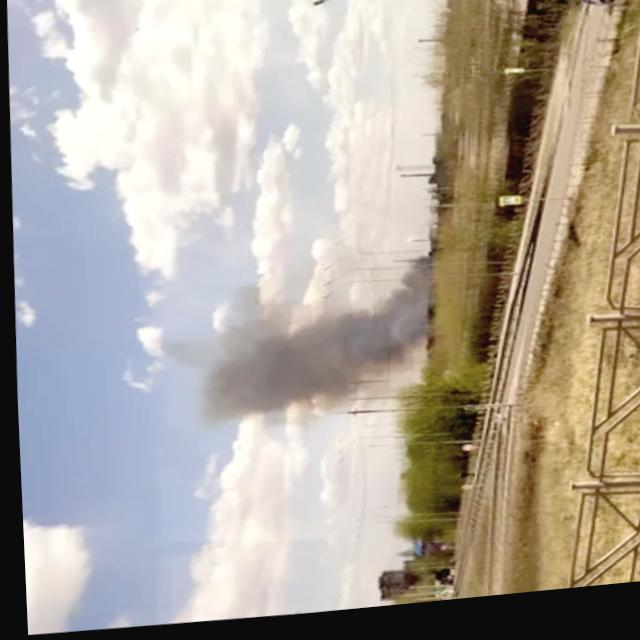no_helmet: (154, 249, 427, 436)
